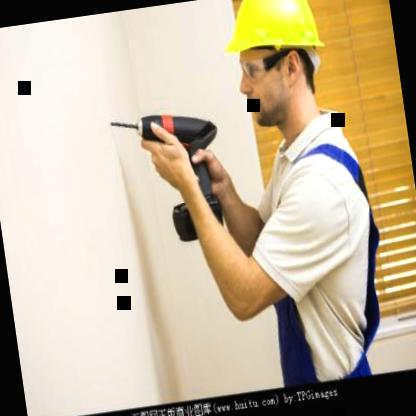helmet: (208, 0, 345, 151)
